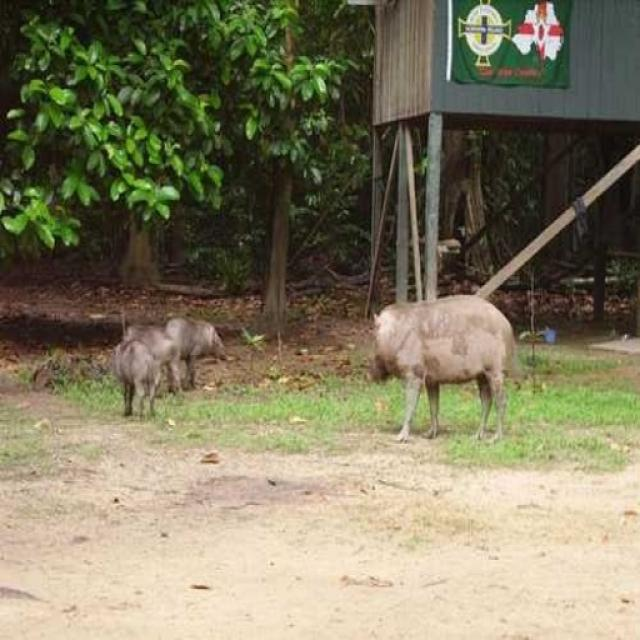pig: (326, 255, 518, 443), (99, 314, 173, 429), (168, 304, 238, 422)
